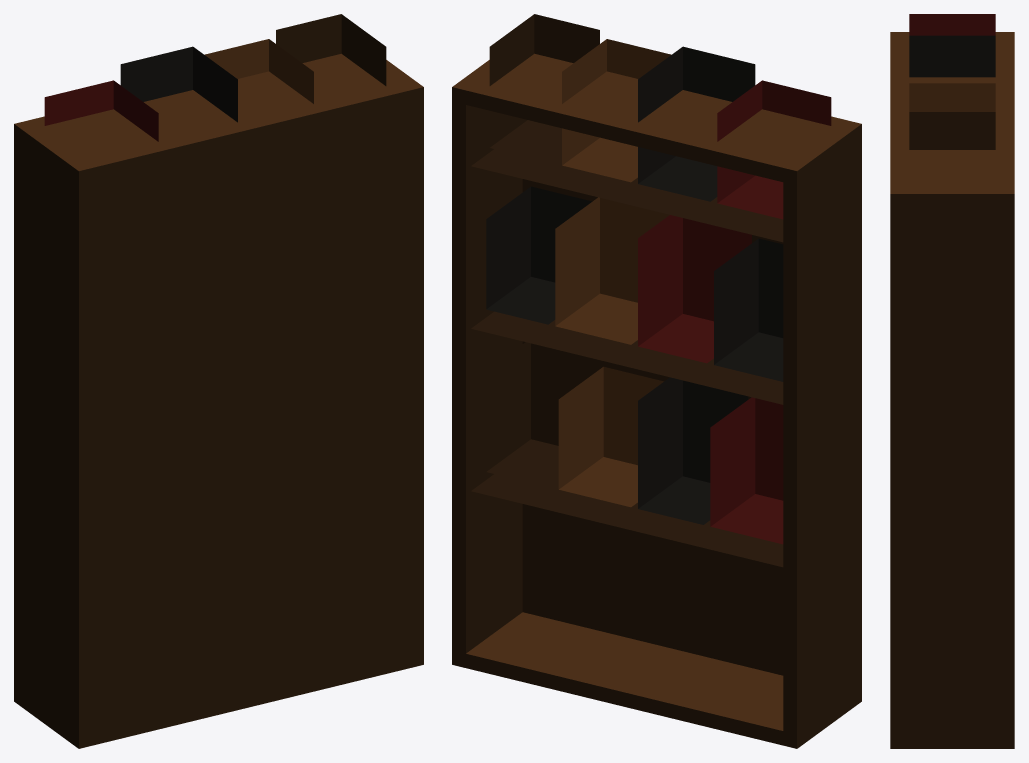
Rendered from bibliotheque.glb.
3 views of the same model, side by side, from view 1: azimuth 30°, elevation 25°; view 2: azimuth 150°, elevation 25°; view 3: azimuth 270°, elevation 25° (orthographic). The views are drawn at different scales.
Parts seen in each view (by area): view 1: Bibliotheque; view 2: Bibliotheque; view 3: Bibliotheque.
Part boxes in pixels (x1,y1,x2,y2): Bibliotheque: (14,14,423,748); Bibliotheque: (452,14,861,748); Bibliotheque: (890,14,1014,748).
Bounding box in the file's own units: 1.74 × 3 × 0.5669.
